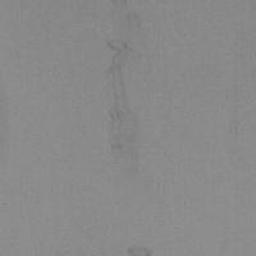Water spot: (104, 0, 146, 204), (0, 58, 22, 179), (124, 243, 154, 256)
